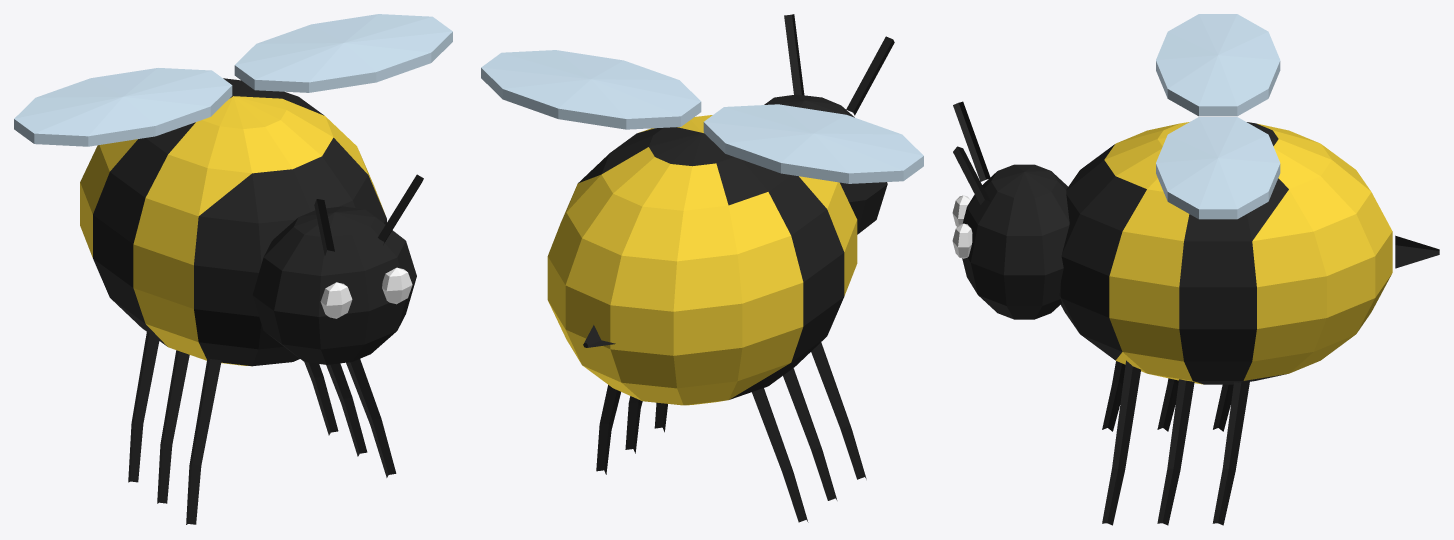
File: humla.glb
3 views of the same model, side by side, from view 1: azimuth 30°, elevation 25°; view 2: azimuth 150°, elevation 25°; view 3: azimuth 270°, elevation 25° (orthographic). The views are drawn at different scales.
Visible parts, largest first — view 1: humla; view 2: humla; view 3: humla.
Part boxes in pixels (x1=…): humla: x1=14, y1=14, x2=452, y2=524; humla: x1=481, y1=14, x2=923, y2=522; humla: x1=952, y1=14, x2=1439, y2=525.
Size of the model in its own units: 0.8353 by 0.742 by 0.88.
